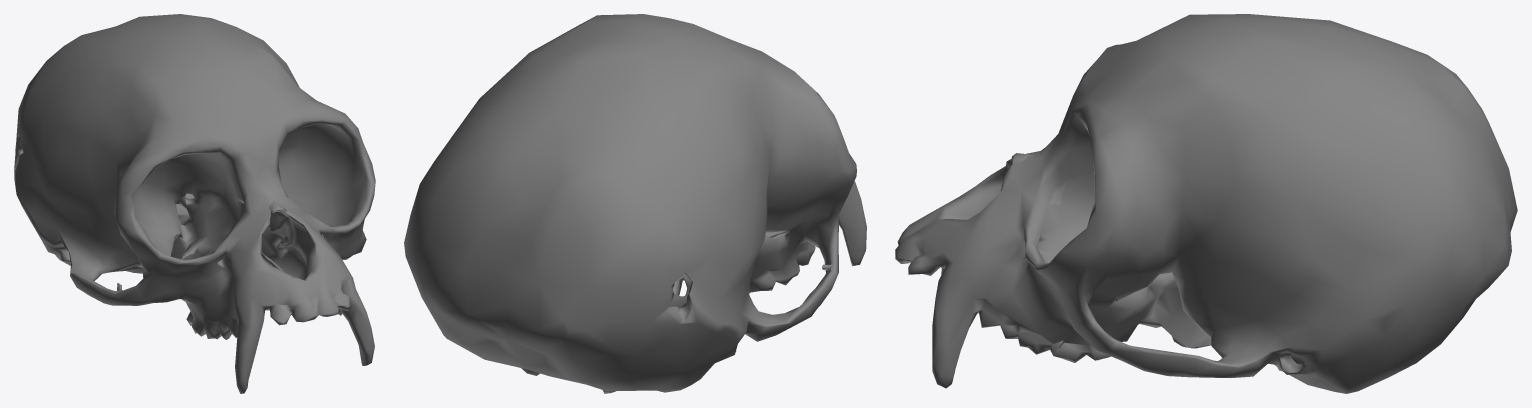
3 renders of one model, left to right at view 1: azimuth 30°, elevation 25°; view 2: azimuth 150°, elevation 25°; view 3: azimuth 270°, elevation 25°, orthographic. The views are drawn at different scales.
Visible parts, largest first — view 1: pMesh1; view 2: pMesh1; view 3: pMesh1.
Boxes of the visible parts, box(x1,y1,x2,y2) form: pMesh1: box(14, 14, 375, 393); pMesh1: box(404, 14, 866, 393); pMesh1: box(895, 14, 1517, 393).
Bounding box in the file's own units: 1.91 × 1.73 × 3.01.
1 material, 1 textured.
